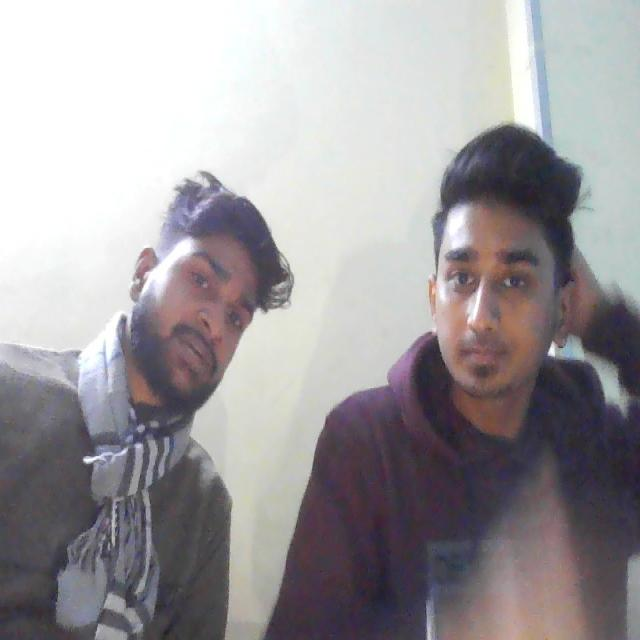real: (426, 143, 576, 425), (139, 177, 262, 411)
